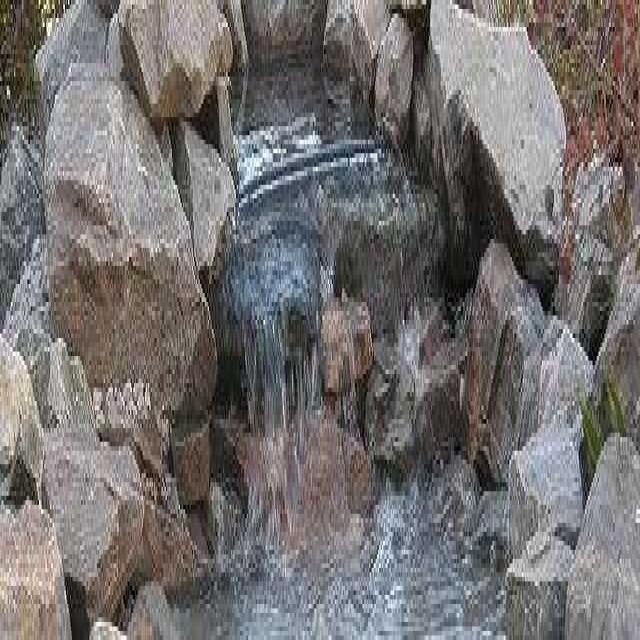Ponds: (65, 1, 640, 640)
